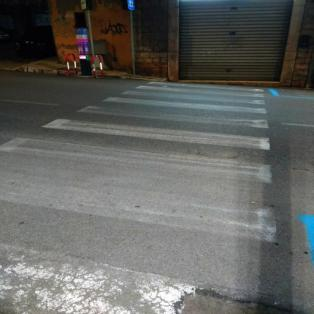Paso de Cebra: (37, 103, 273, 158)
